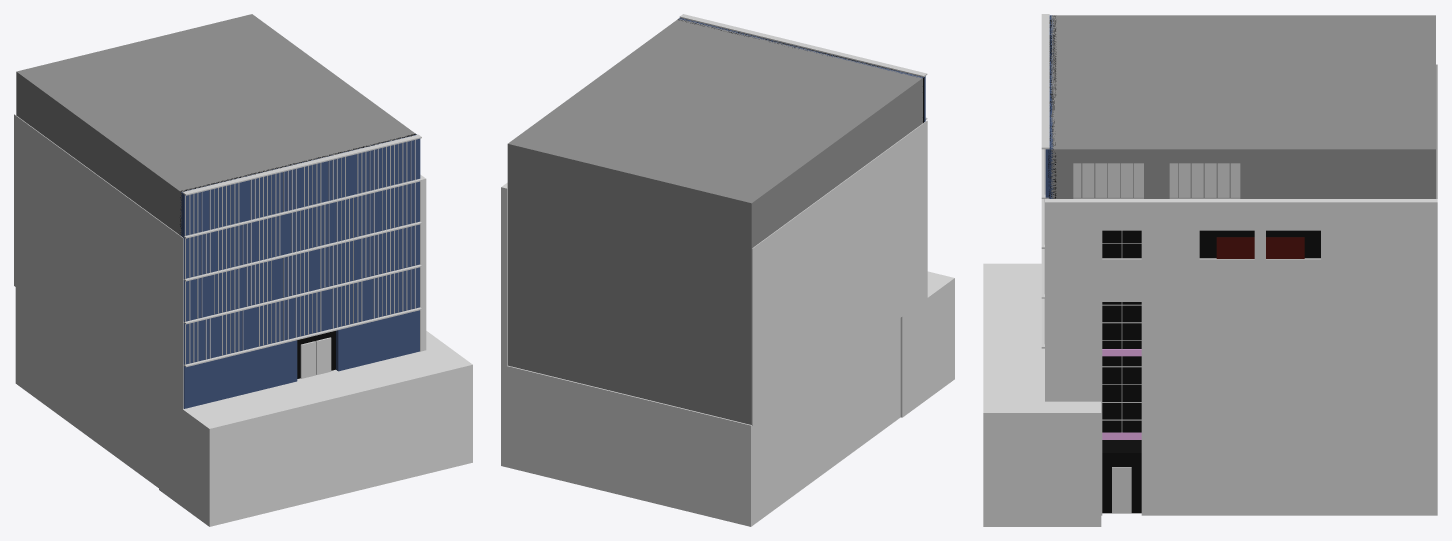
The model's file is aasd.fbx.
3 renders of one model, left to right at view 1: azimuth 30°, elevation 25°; view 2: azimuth 150°, elevation 25°; view 3: azimuth 270°, elevation 25°, orthographic. The views are drawn at different scales.
Parts seen in each view (by area): view 1: Box002, Box001, Box398, Box003, Box355, Box124, Box354, Box353, Box123, Box352, Box004, Box009 (+6 smaller); view 2: Box002, Box003, Box398, Box001, Box004, Box352, Box355; view 3: Box004, Box002, Box001, Box382, Box403, Box404, Box352, Box375, Box386, Box378, Box379, Box376 (+4 smaller).
Part boxes in pixels (x1,y1,x2,y2): Box002: [16, 14, 416, 235]; Box001: [159, 331, 472, 526]; Box398: [14, 114, 183, 409]; Box003: [15, 287, 337, 487]; Box355: [181, 134, 420, 236]; Box124: [183, 267, 419, 364]; Box354: [181, 181, 419, 279]; Box353: [183, 224, 419, 321]; Box123: [183, 310, 419, 408]; Box352: [182, 134, 421, 195]; Box004: [420, 174, 426, 351]; Box009: [184, 179, 421, 238]; Box002: [507, 18, 922, 424]; Box003: [507, 318, 900, 526]; Box398: [752, 120, 927, 425]; Box001: [900, 271, 954, 417]; Box004: [501, 182, 507, 467]; Box352: [679, 14, 927, 77]; Box355: [679, 18, 925, 120]; Box004: [1045, 199, 1437, 515]; Box002: [1051, 15, 1435, 198]; Box001: [983, 263, 1101, 526]; Box382: [1102, 302, 1141, 513]; Box403: [1169, 163, 1240, 197]; Box404: [1073, 163, 1143, 197]; Box352: [1041, 14, 1049, 149]; Box375: [1102, 230, 1141, 258]; Box386: [1112, 467, 1131, 513]; Box378: [1216, 237, 1254, 258]; Box379: [1266, 237, 1304, 258]; Box376: [1199, 230, 1254, 258].
Size of the model in its own units: 450 by 578 by 512.
